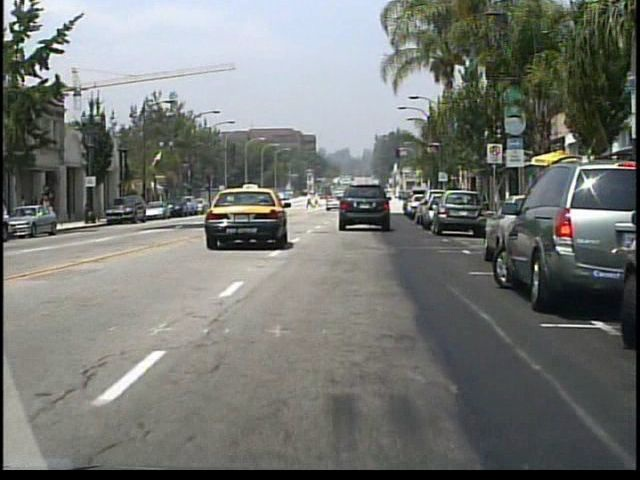person: (42, 194, 54, 225), (314, 191, 323, 210), (304, 192, 313, 211)
